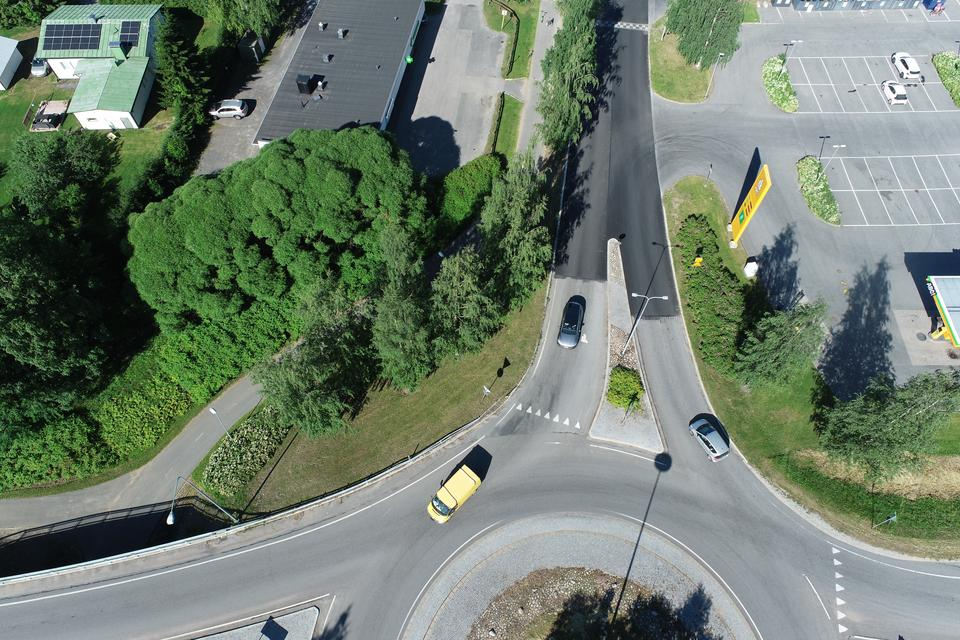roundabout: (298, 407, 881, 640)
